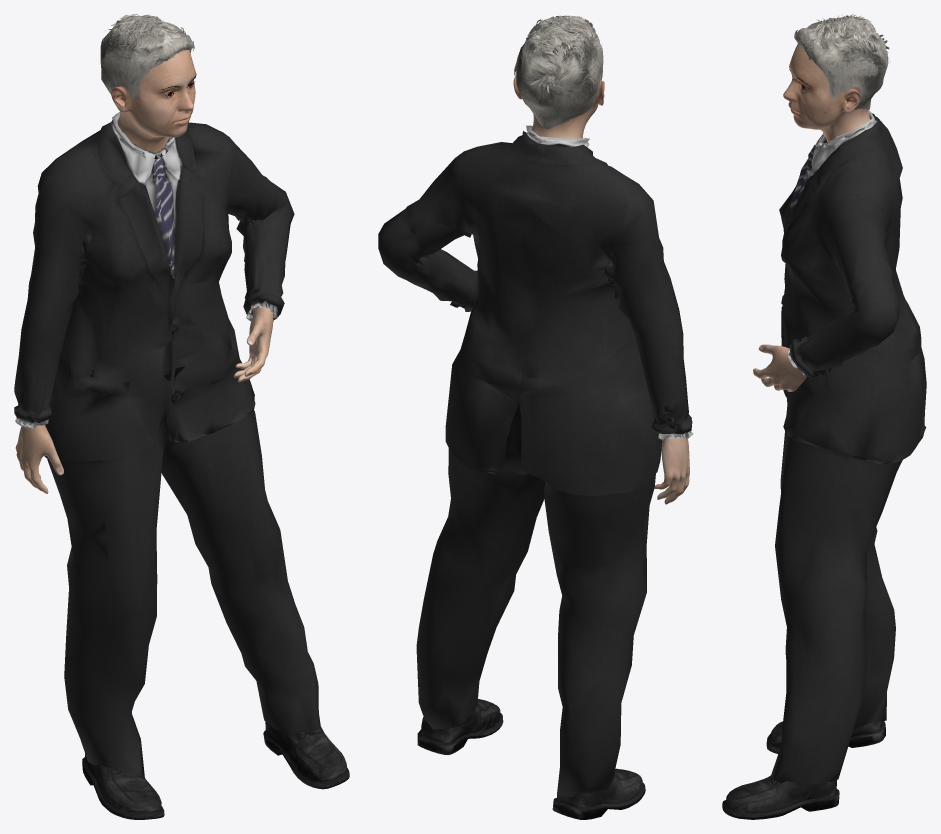
Rendered from female-fashion-model.glb.
The picture shows the model from 3 angles, left to right: view 1: azimuth 30°, elevation 25°; view 2: azimuth 150°, elevation 25°; view 3: azimuth 270°, elevation 25°; orthographic projection. The views are drawn at different scales.
Visible parts, largest first — view 1: male_elegantsuit01, Harper | anatomical body, shoes04, short01; view 2: male_elegantsuit01, short01, shoes04, Harper | anatomical body; view 3: male_elegantsuit01, Harper | anatomical body, short01, shoes04.
Part boxes in pixels (x1=…): male_elegantsuit01: x1=14, y1=112, x2=320, y2=779; Harper | anatomical body: x1=15, y1=50, x2=273, y2=493; shoes04: x1=82, y1=721, x2=349, y2=819; short01: x1=100, y1=14, x2=194, y2=98; male_elegantsuit01: x1=378, y1=125, x2=693, y2=797; short01: x1=514, y1=14, x2=603, y2=128; shoes04: x1=417, y1=699, x2=645, y2=819; Harper | anatomical body: x1=513, y1=75, x2=689, y2=504; male_elegantsuit01: x1=770, y1=110, x2=926, y2=785; Harper | anatomical body: x1=753, y1=44, x2=870, y2=391; short01: x1=794, y1=14, x2=890, y2=109; shoes04: x1=722, y1=721, x2=885, y2=819.
Size of the model in its own units: 0.6572 by 1.68 by 0.4195.
Materials: 9 (9 with a texture image).
